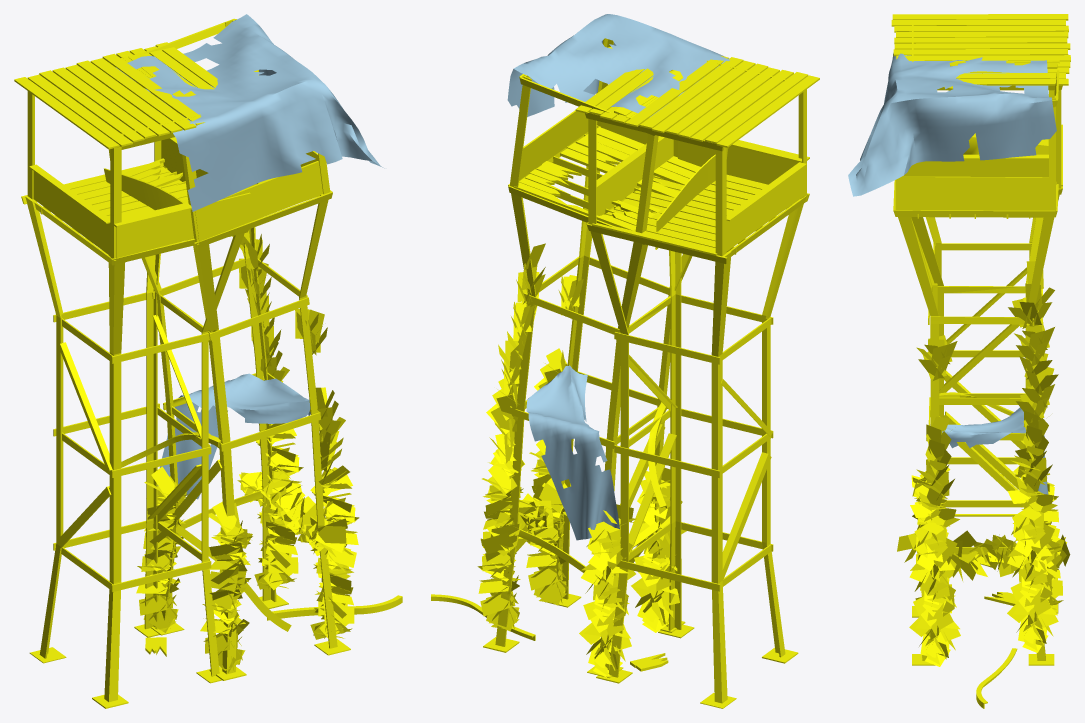
Rendered from watchtower.glb.
The picture shows the model from 3 angles, left to right: view 1: azimuth 30°, elevation 25°; view 2: azimuth 150°, elevation 25°; view 3: azimuth 270°, elevation 25°; orthographic projection. The views are drawn at different scales.
Parts seen in each view (by area): view 1: Tower_Old, Tower_1; view 2: Tower_Old, Tower_1; view 3: Tower_Old, Tower_1.
Boxes of the visible parts, left/top/right/bottom form: Tower_Old: left=104, top=14, right=402, bottom=680; Tower_1: left=14, top=42, right=250, bottom=708; Tower_Old: left=431, top=14, right=729, bottom=678; Tower_1: left=575, top=55, right=819, bottom=708; Tower_Old: left=848, top=53, right=1070, bottom=708; Tower_1: left=891, top=14, right=1070, bottom=613.
Size of the model in its own units: 4.2 by 6.92 by 2.52.
